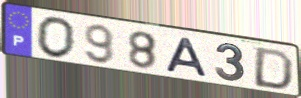3: (213, 42, 247, 84)
8: (126, 30, 160, 70)
9: (83, 23, 116, 66)
A: (164, 36, 210, 80)
D: (251, 46, 296, 91)
O: (35, 15, 78, 61)
